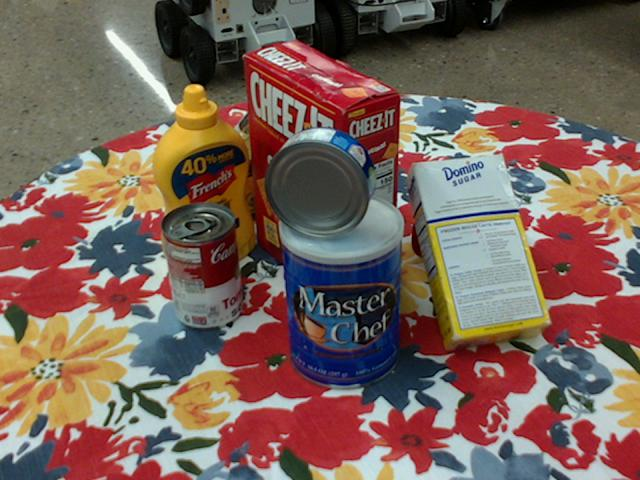cracker_box: (244, 41, 401, 311)
gelatin_box: (293, 128, 371, 207)
large_marker: (233, 83, 284, 138)
master_chef_can: (279, 193, 402, 392)
mug: (407, 160, 501, 266)
mustard_bottle: (151, 86, 254, 272)
potted_meat_can: (207, 125, 301, 227)
sugar_box: (404, 154, 552, 354)
tomato_soup_can: (160, 202, 242, 329)
tuna_fish_can: (265, 127, 376, 239)
